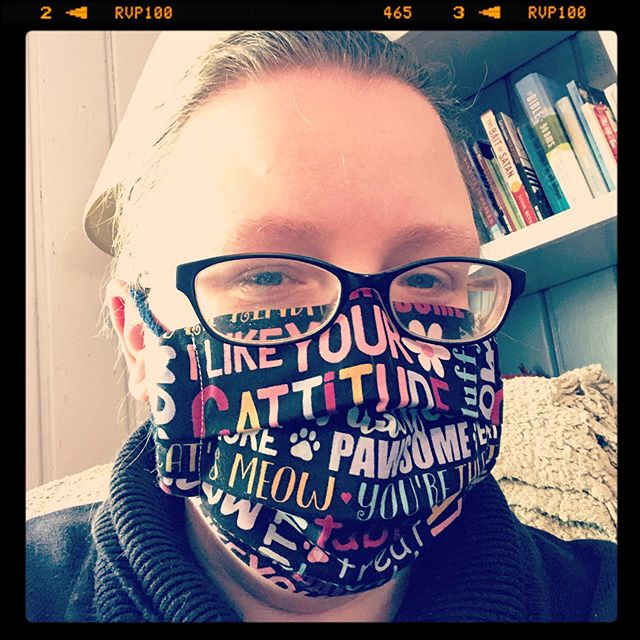homemade: (141, 327, 535, 604)
